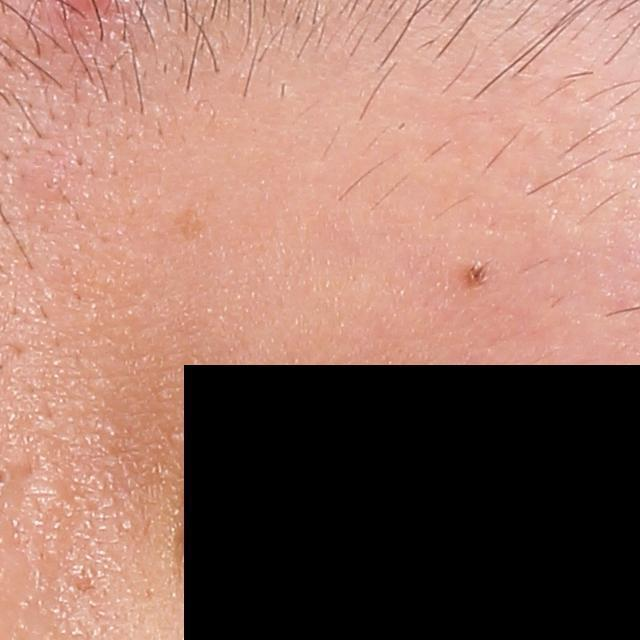nevus: (461, 257, 487, 289)
